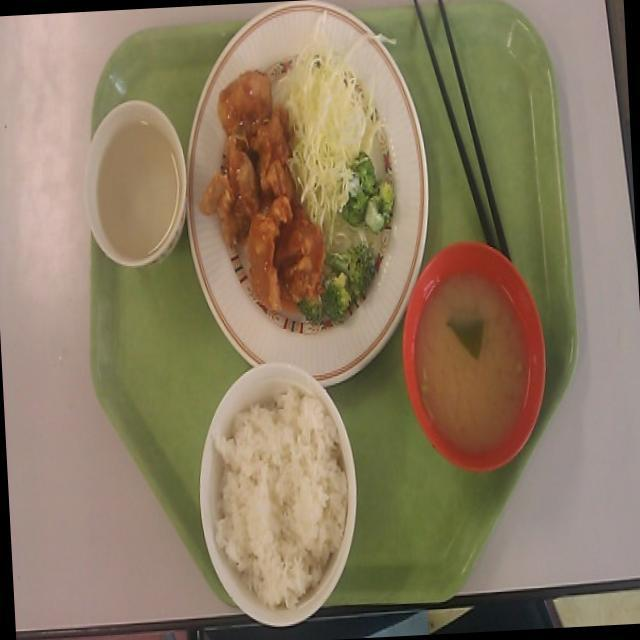Rice: (201, 398, 354, 609)
